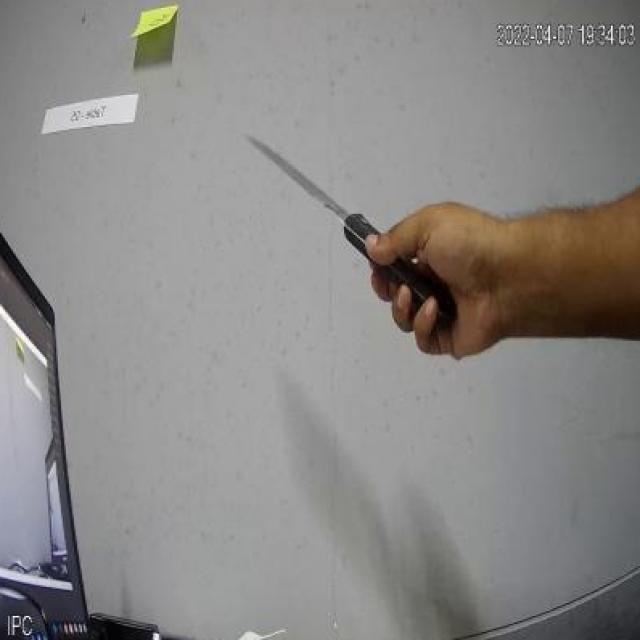Knife: (239, 122, 472, 326)
